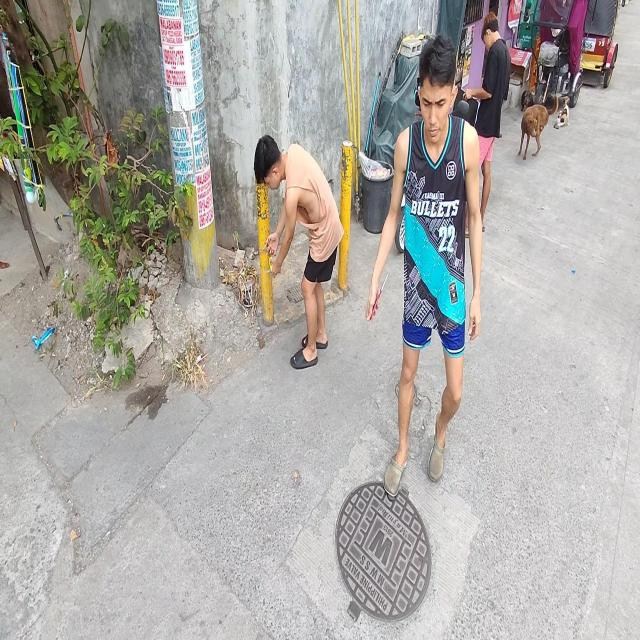scissor: (369, 273, 389, 322), (265, 256, 275, 284), (260, 236, 272, 257)
